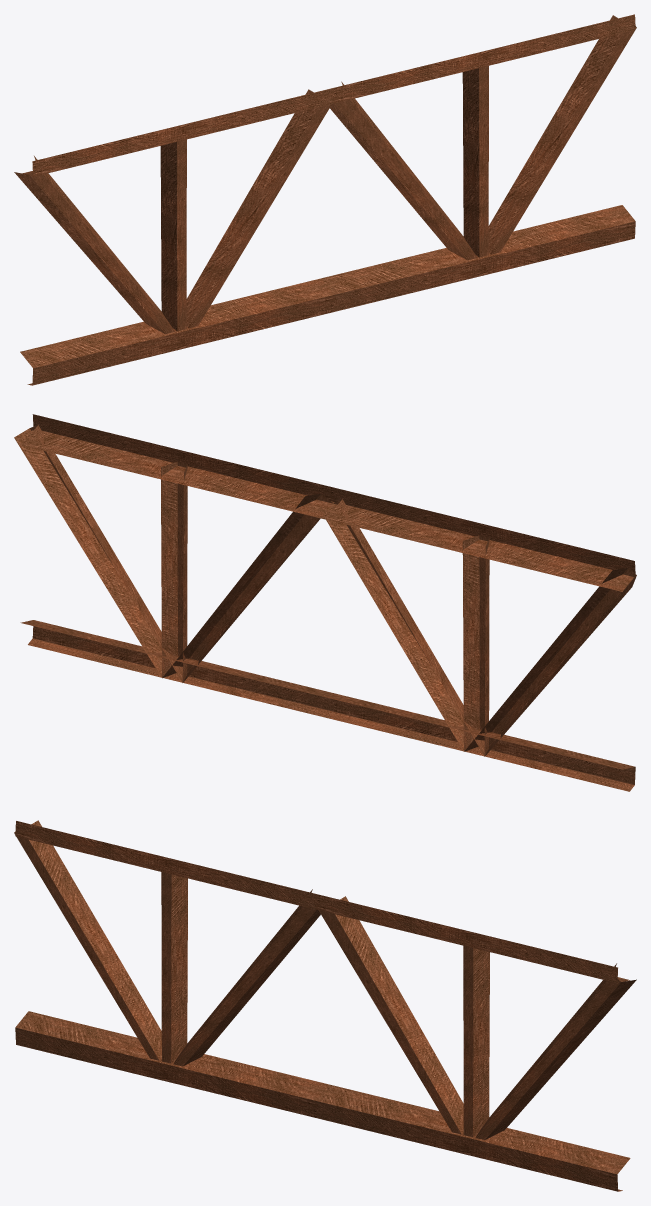
The model's file is fanasty_mod_lar_top_V_twin_beam.fbx.
3 renders of one model, top to bottom at view 1: azimuth 30°, elevation 25°; view 2: azimuth 150°, elevation 25°; view 3: azimuth 330°, elevation 25°, orthographic.
Visible parts, largest first — view 1: lar_top_V_twin_beam; view 2: lar_top_V_twin_beam; view 3: lar_top_V_twin_beam.
Part boxes in pixels (left/top/right/bottom): lar_top_V_twin_beam: left=14, top=14, right=636, bottom=385; lar_top_V_twin_beam: left=14, top=414, right=636, bottom=791; lar_top_V_twin_beam: left=14, top=820, right=636, bottom=1191.
Bounding box in the file's own units: 10.73 × 3.76 × 0.3992.
